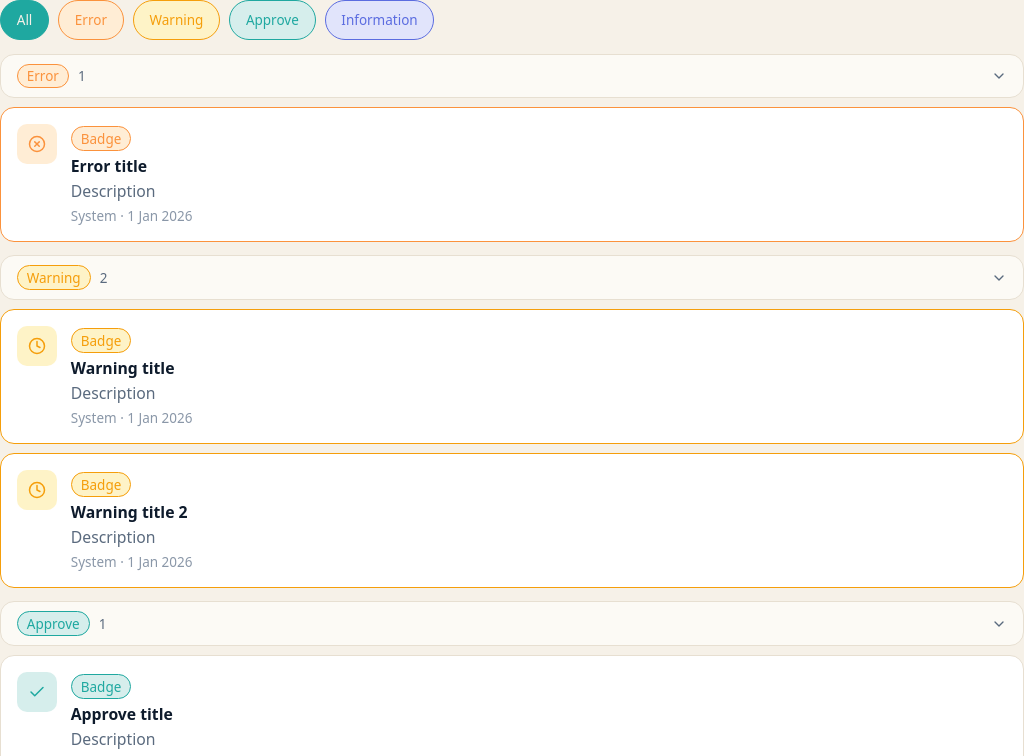
Test case: MessagesTab — grouping, filter, collapse (STA-253) › filtering to a single type shows only that type's group
The width and height of the screenshot is (1024, 756).
Click the button "Error" at (91, 20), box [58,0,124,40]
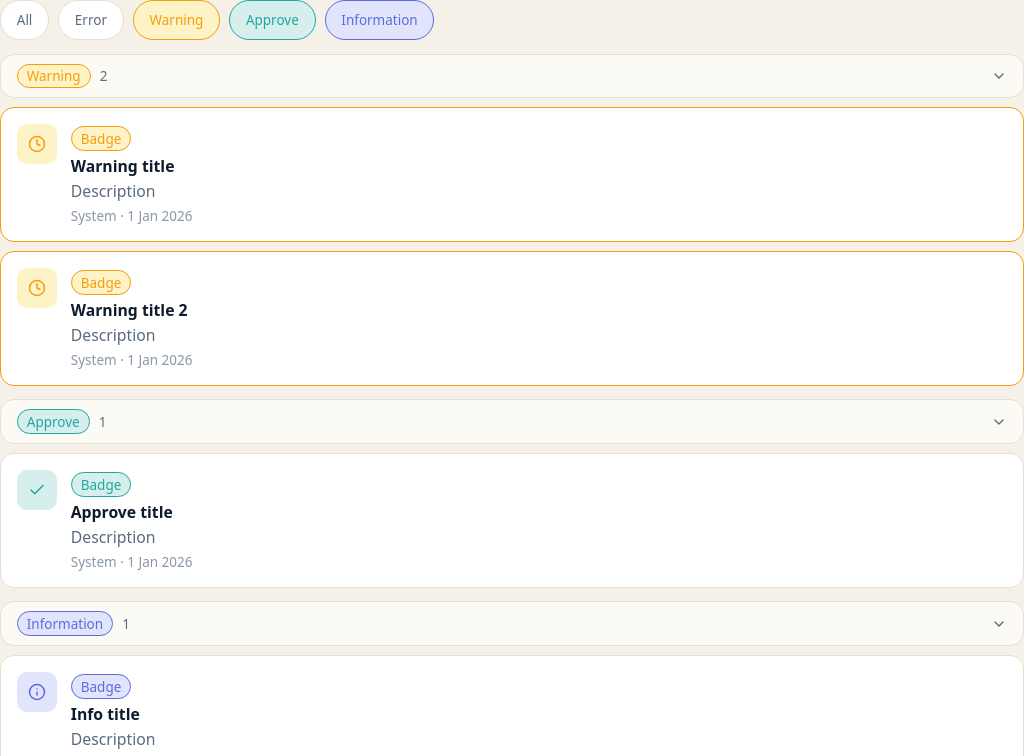
Click the button "Approve" at (272, 20), box [229,0,316,40]
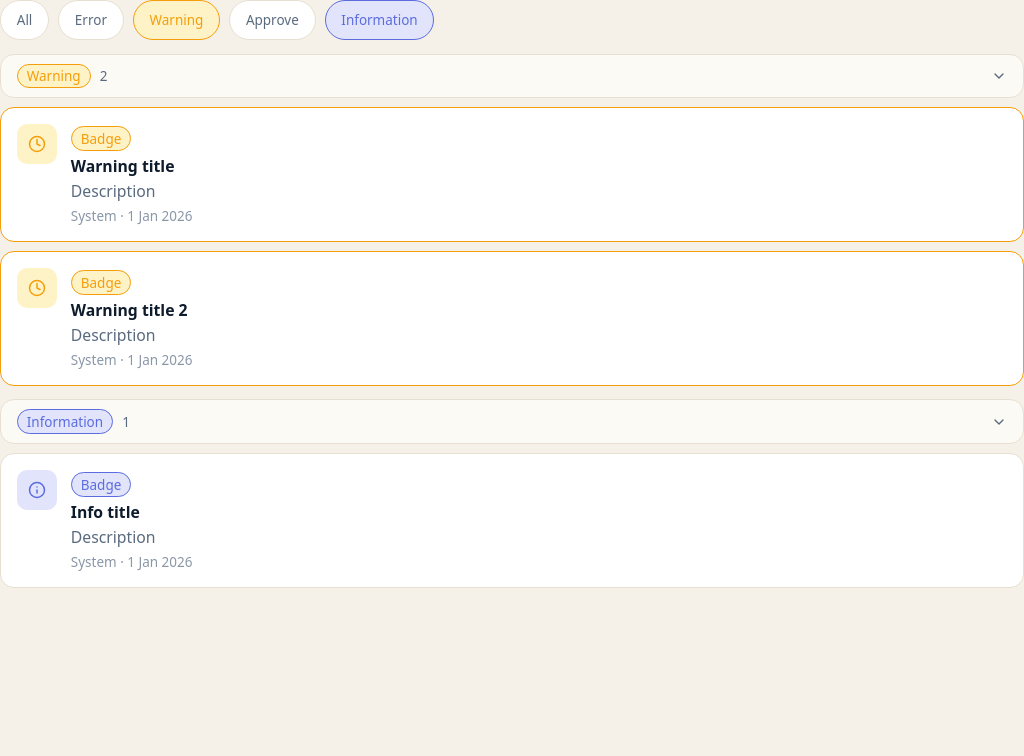
Click the button "Information" at (380, 20), box [325,0,434,40]
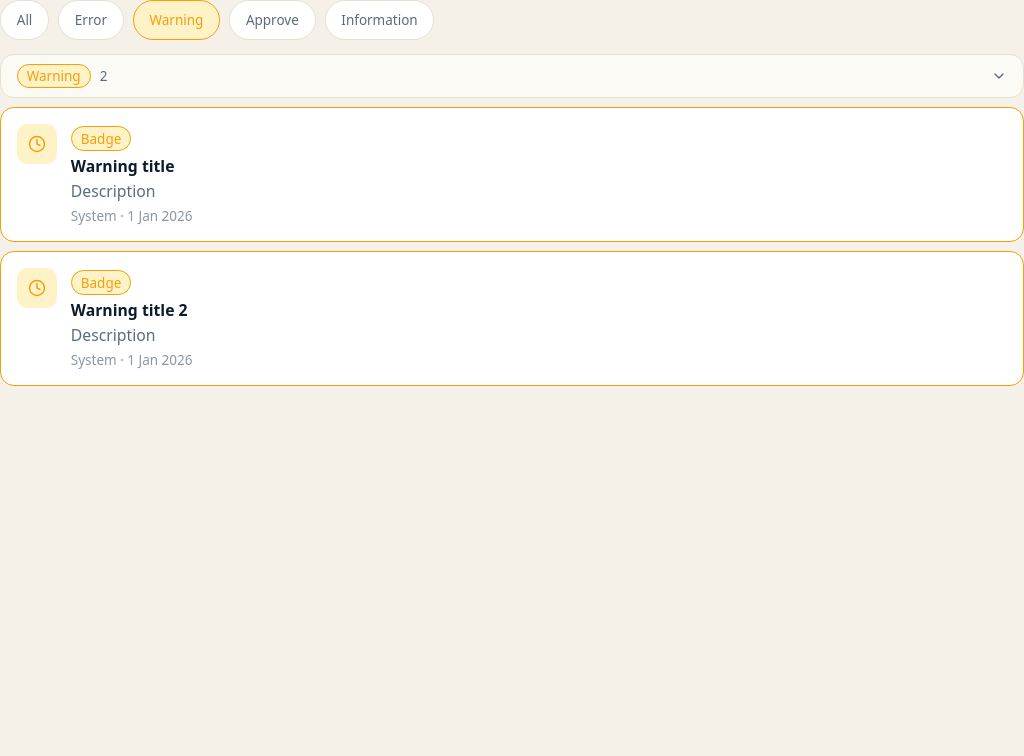
Expected: the text "Error title" is not shown
Now the text "Info title" is gone
